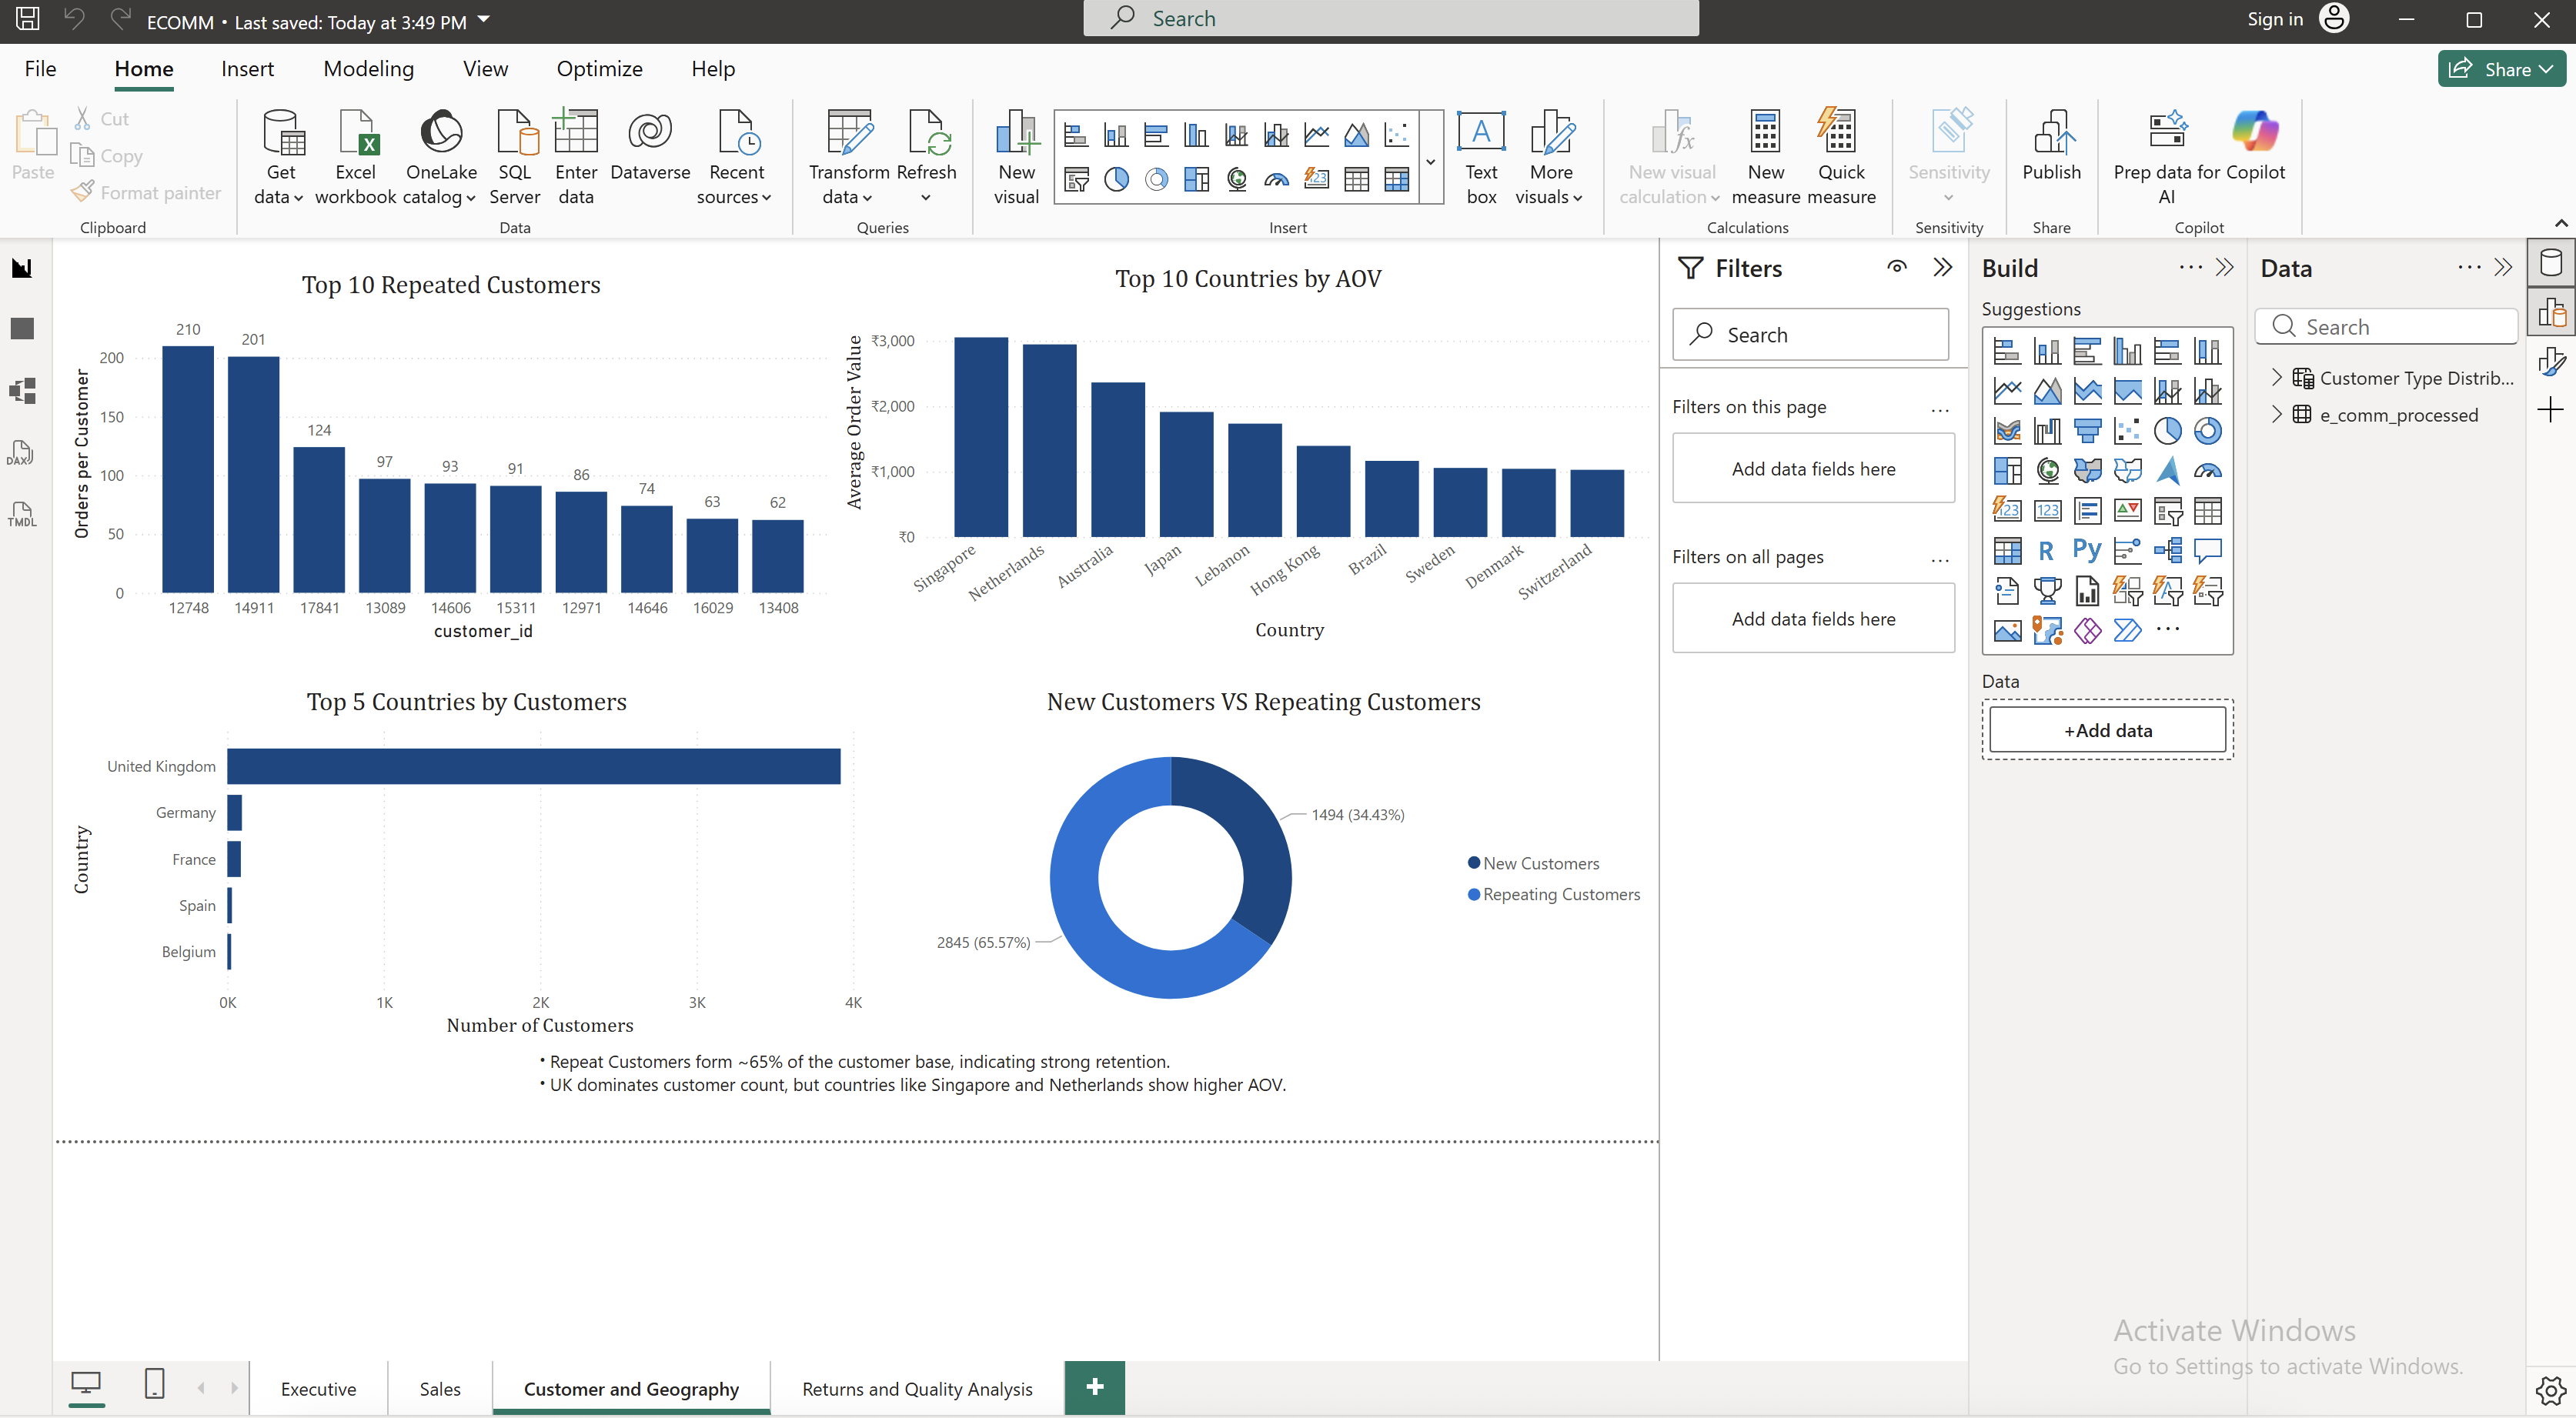

Layout of this report page (visuals, bound fields, positions):
{"tool":"powerbi","page":{"name":"Customer and Geography","canvas":[1280,720],"ordinal":2},"visuals":[{"type":"clusteredColumnChart","title":"Top 10 Repeated Customers","fields":{"Category":["e_comm_processed.customer_id"],"Y":["e_comm_processed.Orders per Customer"]},"box":[10.3,22.6,615.3,304.6],"z":0},{"type":"clusteredColumnChart","title":"Top 10 Countries by AOV","fields":{"Category":["e_comm_processed.country"],"Y":["e_comm_processed.AOV"]},"box":[625.6,22.6,654.4,304.6],"z":1000},{"type":"clusteredBarChart","title":"Top 5 Countries by Customers","fields":{"Category":["e_comm_processed.country"],"Y":["e_comm_processed.Total Customer"]},"box":[10.3,360.1,640,281.9],"z":2000},{"type":"donutChart","title":"New Customers VS Repeating Customers","fields":{"Y":["e_comm_processed.New Customers","e_comm_processed.Repeating Customers"]},"box":[650.3,360.1,629.7,281.9],"z":3000},{"type":"textbox","box":[372.5,642.1,640,78.2],"z":4000}]}

Visuals, with their boxes on the page's 1280x720 design canvas (x1, y1, x2, y2). These are canvas units, not pixel positions in the 2576x1418 screenshot, which may show the page scaled, cropped or inside an application window:
"Top 10 Repeated Customers" clusteredColumnChart: select_region(10, 23, 626, 327)
"Top 10 Countries by AOV" clusteredColumnChart: select_region(626, 23, 1280, 327)
"Top 5 Countries by Customers" clusteredBarChart: select_region(10, 360, 650, 642)
"New Customers VS Repeating Customers" donutChart: select_region(650, 360, 1280, 642)
textbox: select_region(372, 642, 1012, 720)
